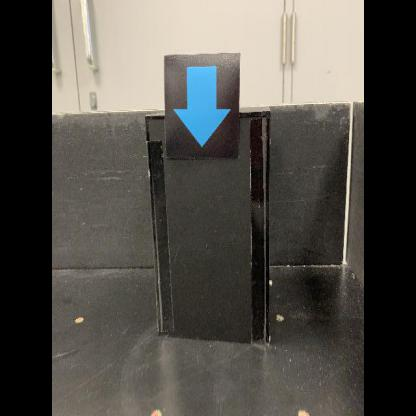down: (163, 52, 241, 161)
